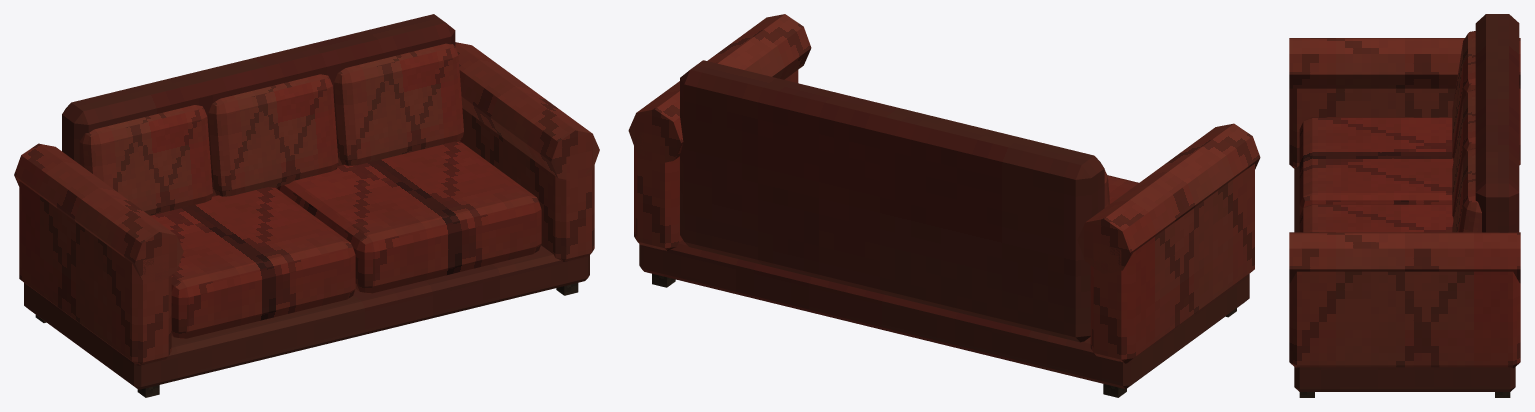
Rendered from Couch_Red.glb.
The picture shows the model from 3 angles, left to right: view 1: azimuth 30°, elevation 25°; view 2: azimuth 150°, elevation 25°; view 3: azimuth 270°, elevation 25°; orthographic projection. The views are drawn at different scales.
Visible parts, largest first — view 1: Couch_Red; view 2: Couch_Red; view 3: Couch_Red.
Part boxes in pixels (x1,y1,x2,y2): Couch_Red: (14,14,599,397); Couch_Red: (628,14,1260,397); Couch_Red: (1289,14,1520,397).
Bounding box in the file's own units: 2 × 0.85 × 0.9.
Materials: 1 (1 with a texture image).
